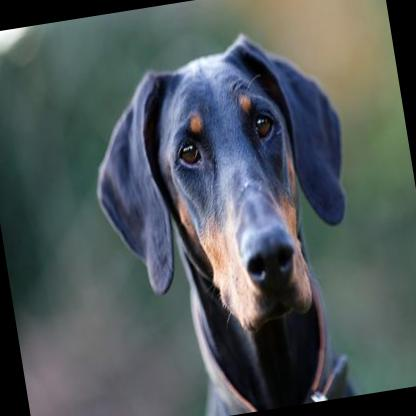Doberman: (71, 16, 385, 416)
